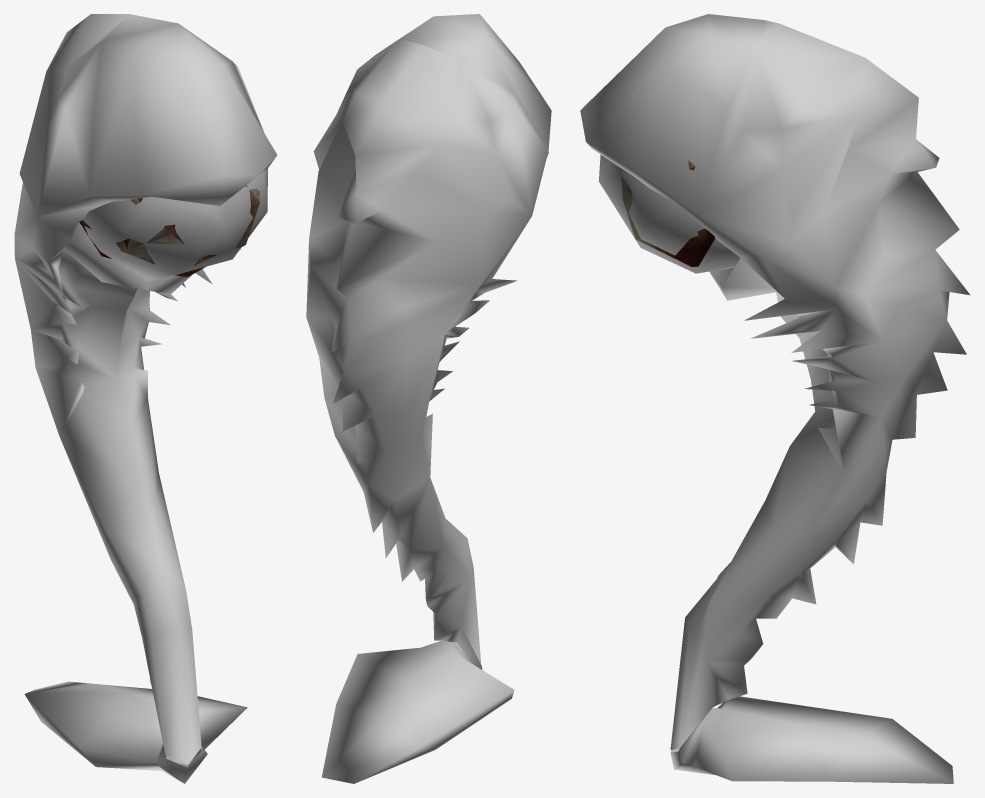
The model's file is FirerBinary.fbx.
The picture shows the model from 3 angles, left to right: view 1: azimuth 30°, elevation 25°; view 2: azimuth 150°, elevation 25°; view 3: azimuth 270°, elevation 25°; orthographic projection. The views are drawn at different scales.
Visible parts, largest first — view 1: Eye_ball.002, Eye_ball.004; view 2: Eye_ball.002; view 3: Eye_ball.002, Eye_ball.004.
Boxes of the visible parts, bbox=[...] form: Eye_ball.002: bbox=[14, 14, 277, 783]; Eye_ball.004: bbox=[79, 168, 267, 280]; Eye_ball.002: bbox=[306, 14, 551, 783]; Eye_ball.002: bbox=[580, 14, 970, 783]; Eye_ball.004: bbox=[598, 155, 740, 273].
Size of the model in its own units: 141 by 454 by 214.
